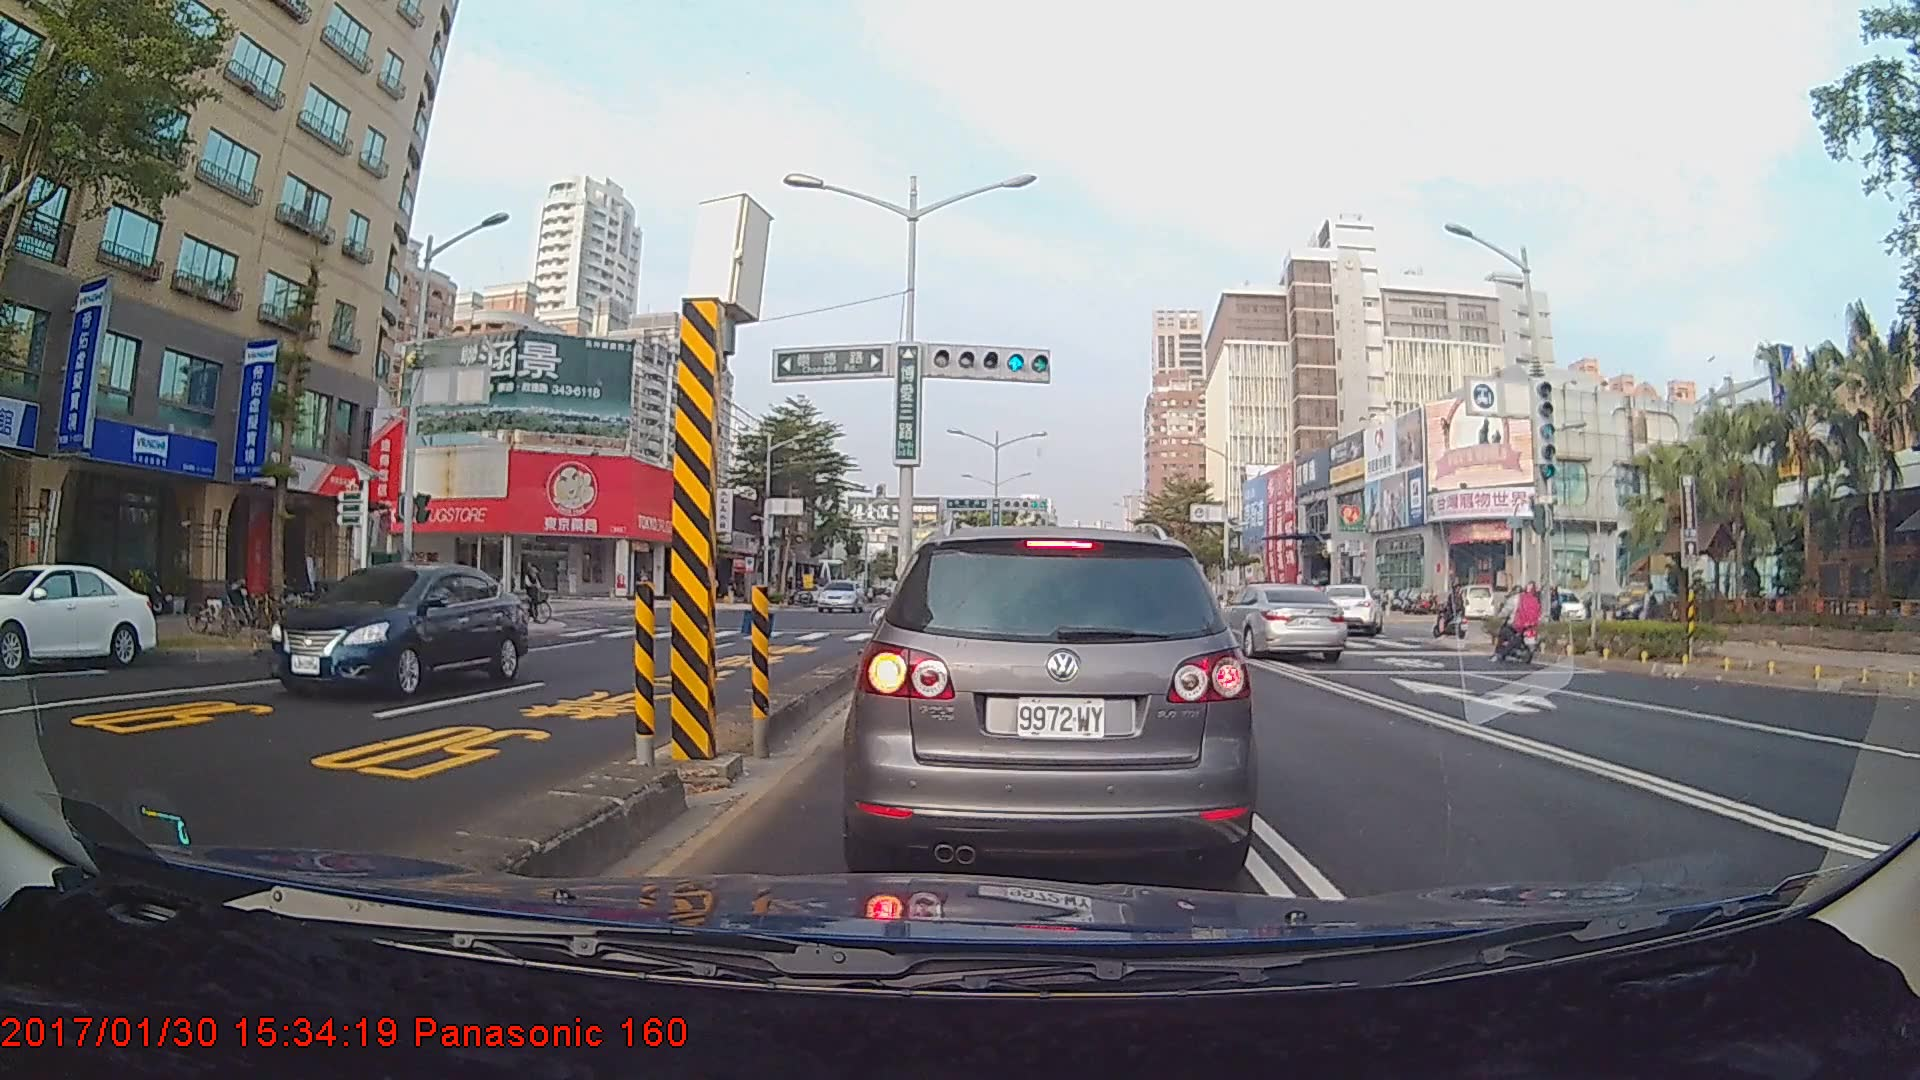pedestrian: (1637, 582, 1666, 641)
rider: (1486, 582, 1548, 668), (518, 559, 561, 629), (1432, 582, 1469, 646)
vehicle: (851, 519, 1251, 878), (266, 561, 525, 698), (0, 561, 158, 671), (1215, 581, 1351, 664), (1308, 582, 1384, 637), (816, 578, 865, 615)
